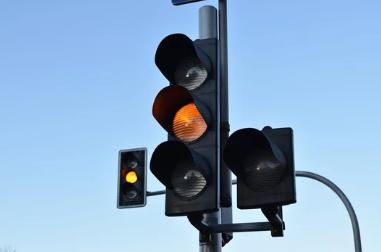yellow_light: (150, 34, 220, 216), (117, 147, 147, 209)
